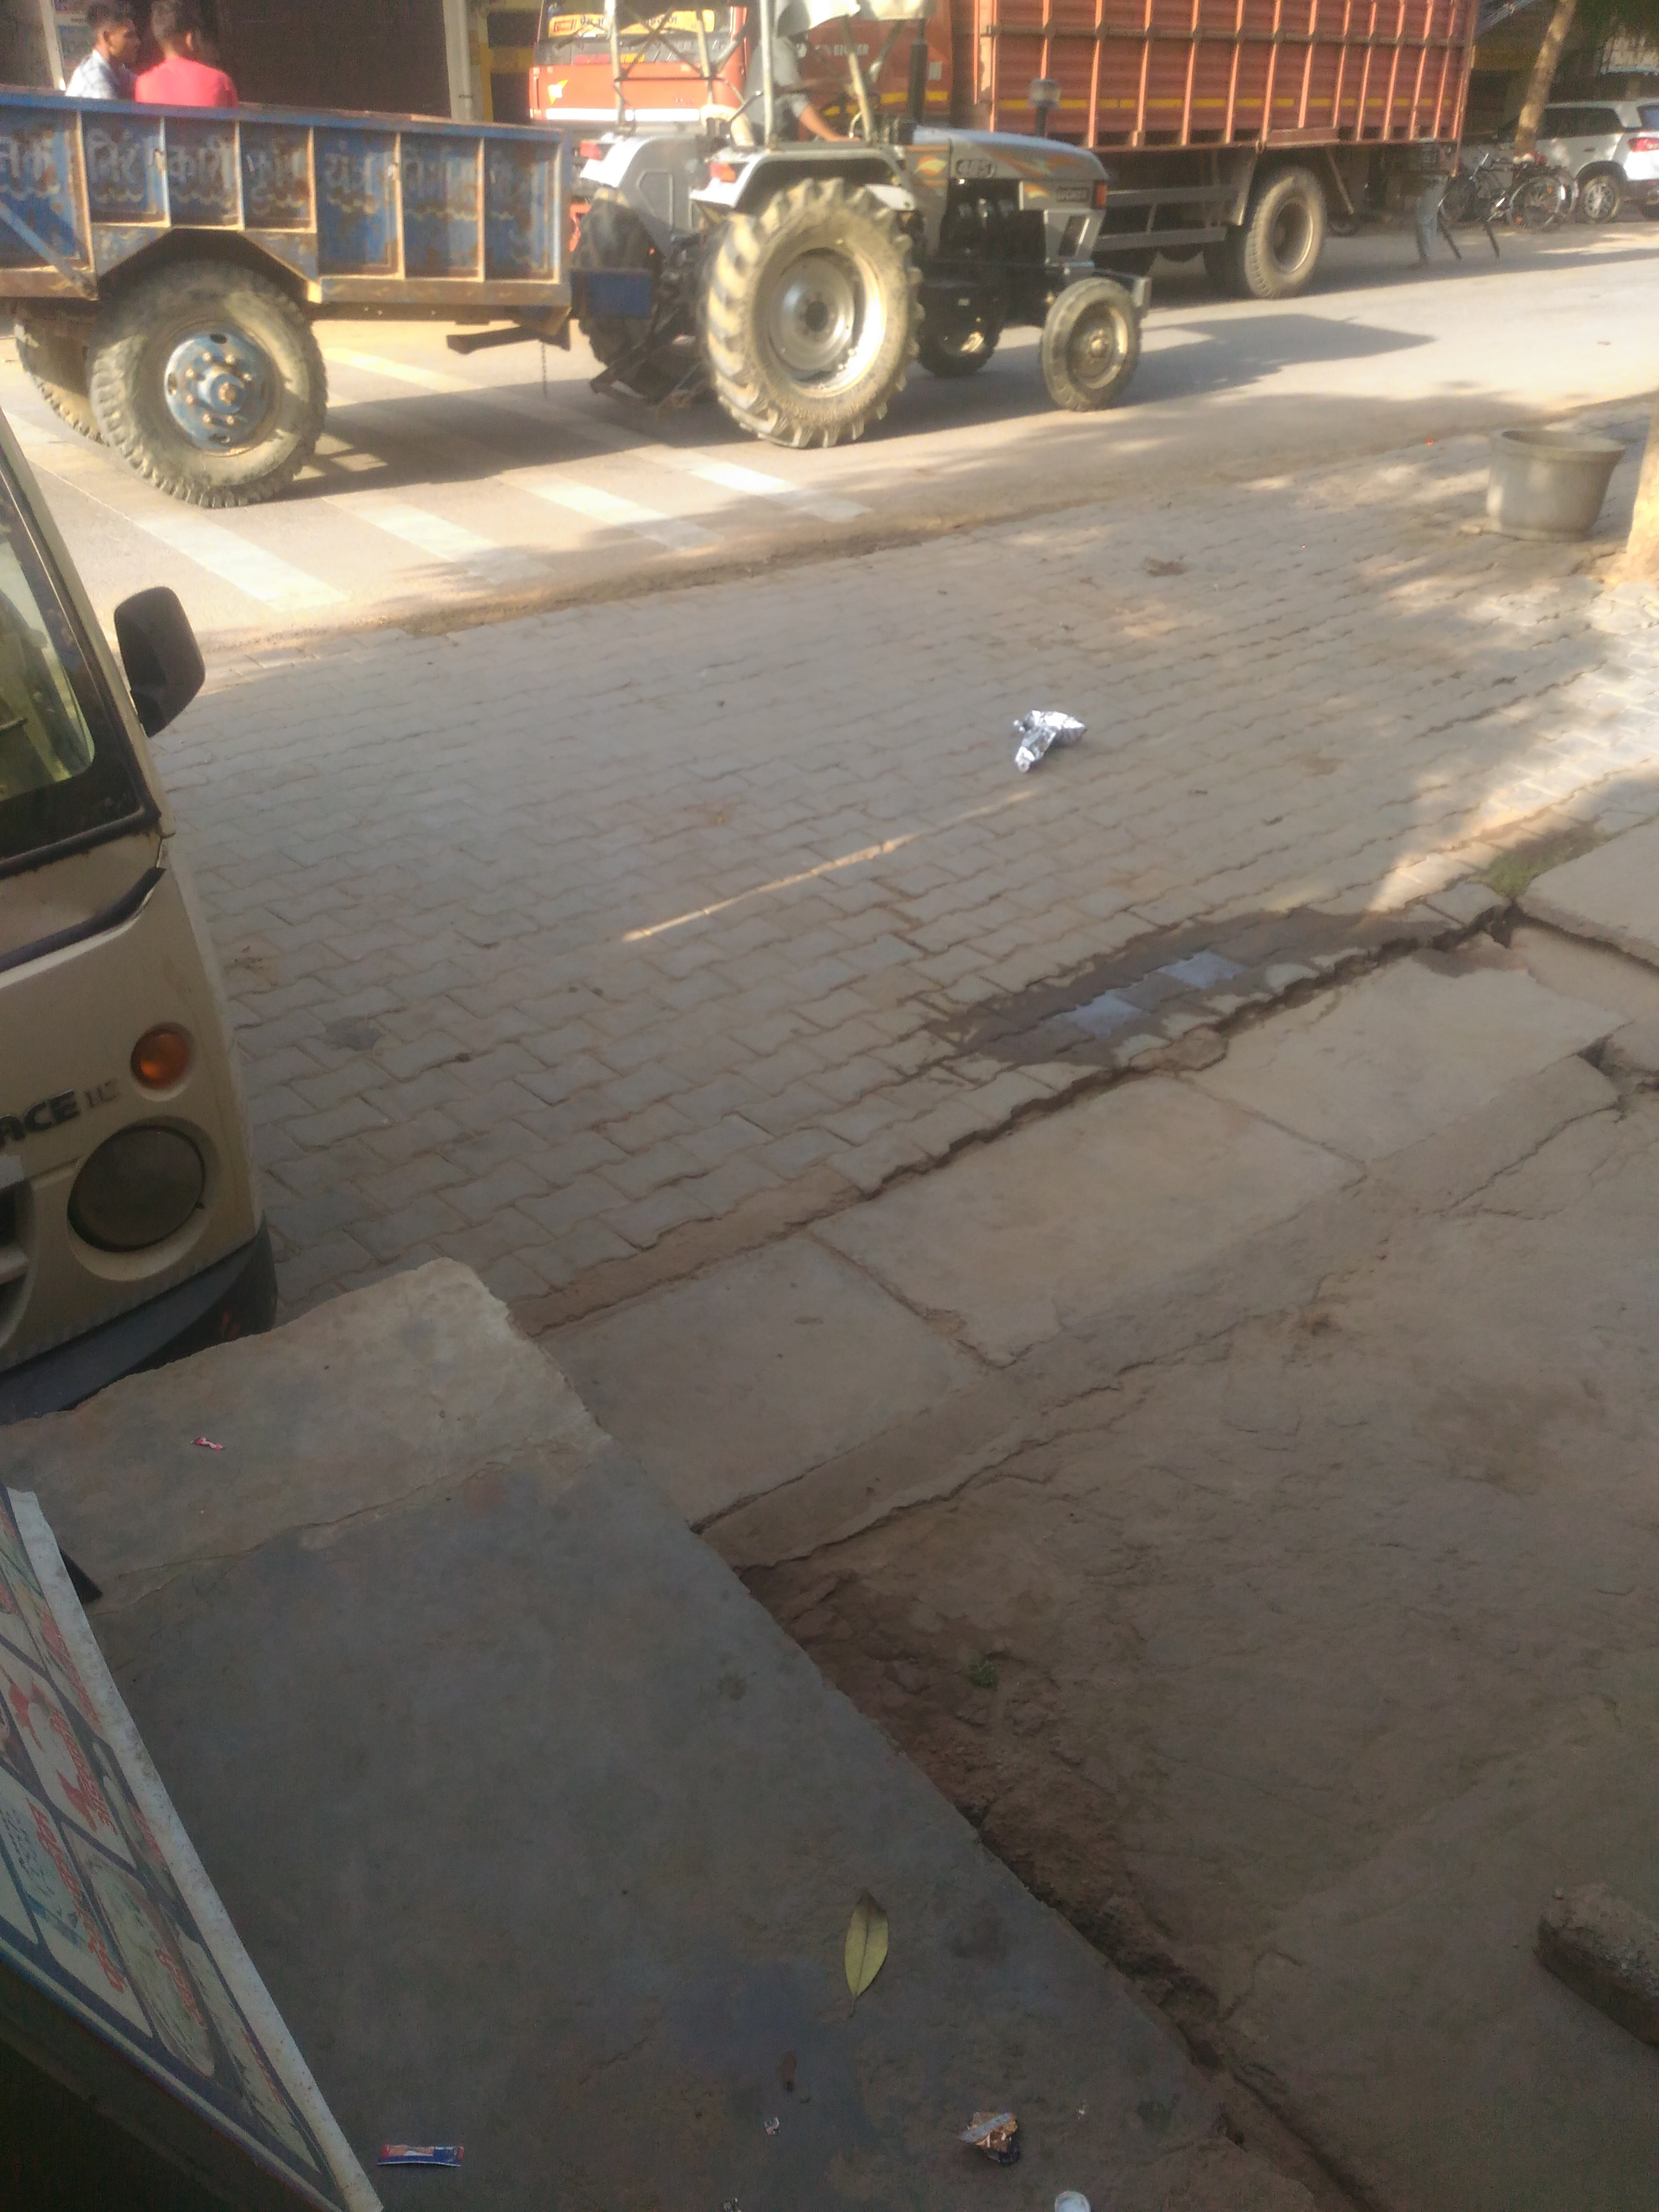truck: (0, 0, 1157, 512)
